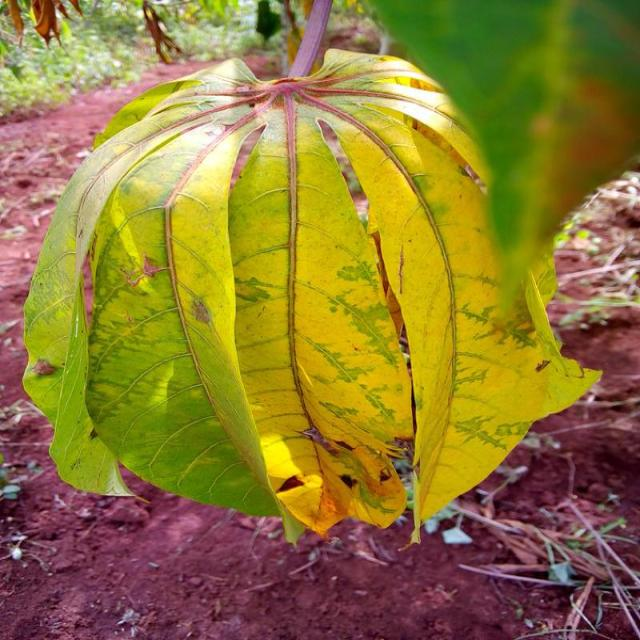cassava leaf: (22, 42, 603, 549)
